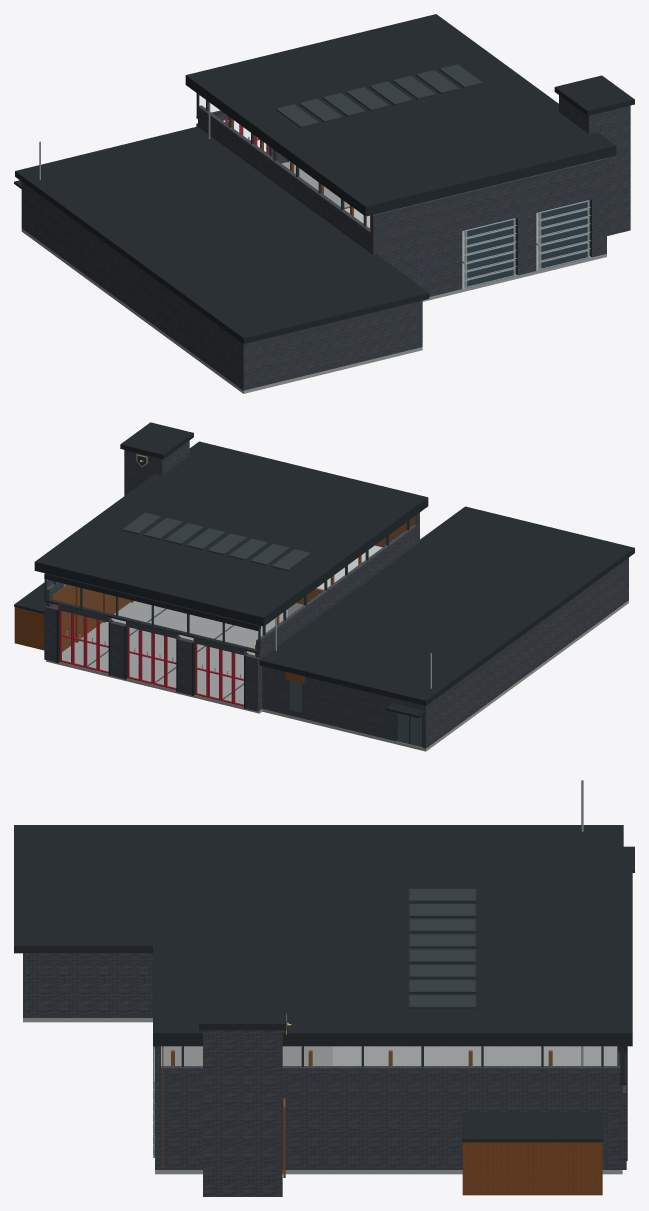
Rendered from station2.glb.
The picture shows the model from 3 angles, top to bottom: view 1: azimuth 30°, elevation 25°; view 2: azimuth 150°, elevation 25°; view 3: azimuth 270°, elevation 25°; orthographic projection. The views are drawn at different scales.
Visible parts, largest first — view 1: Static_Fascia__graphite_metal, Static_Masonry__charcoal-grey_running_bond, Static_Window_frames__black_anodized, Static_Slab__polished_concrete; view 2: Static_Fascia__graphite_metal, Static_Masonry__charcoal-grey_running_bond, Static_Slab__polished_concrete, Static_Window_frames__black_anodized, Static_Interior__honey_glulam_and_CLT, Static_Exterior__vertical_honey_timber, Static_Wing_glazing__smoked_grey, Static_Interior__service_wall; view 3: Static_Fascia__graphite_metal, Static_Masonry__charcoal-grey_running_bond, Static_Window_frames__black_anodized, Static_Exterior__vertical_honey_timber, Static_Slab__polished_concrete, Static_Interior__service_wall, Static_Interior__honey_glulam_and_CLT.
Part boxes in pixels (box(x1,y1,x2,y2)): Static_Fascia__graphite_metal: box(14, 14, 634, 343); Static_Masonry__charcoal-grey_running_bond: box(21, 95, 630, 390); Static_Window_frames__black_anodized: box(196, 64, 483, 226); Static_Slab__polished_concrete: box(21, 161, 606, 393); Static_Fascia__graphite_metal: box(14, 422, 634, 718); Static_Masonry__charcoal-grey_running_bond: box(44, 440, 628, 748); Static_Slab__polished_concrete: box(46, 600, 628, 751); Static_Window_frames__black_anodized: box(44, 512, 422, 747); Static_Interior__honey_glulam_and_CLT: box(52, 514, 417, 655); Static_Exterior__vertical_honey_timber: box(14, 607, 304, 683); Static_Wing_glazing__smoked_grey: box(289, 680, 421, 746); Static_Interior__service_wall: box(287, 545, 382, 616); Static_Fascia__graphite_metal: box(14, 825, 634, 1160); Static_Masonry__charcoal-grey_running_bond: box(23, 953, 626, 1196); Static_Window_frames__black_anodized: box(181, 888, 624, 1083); Static_Exterior__vertical_honey_timber: box(283, 1098, 602, 1195); Static_Slab__polished_concrete: box(23, 1018, 622, 1174); Static_Interior__service_wall: box(161, 1046, 332, 1065); Static_Interior__honey_glulam_and_CLT: box(162, 1046, 552, 1169).
Size of the model in its own units: 35.48 by 9.9 by 31.08.
15 materials, 3 textured.
